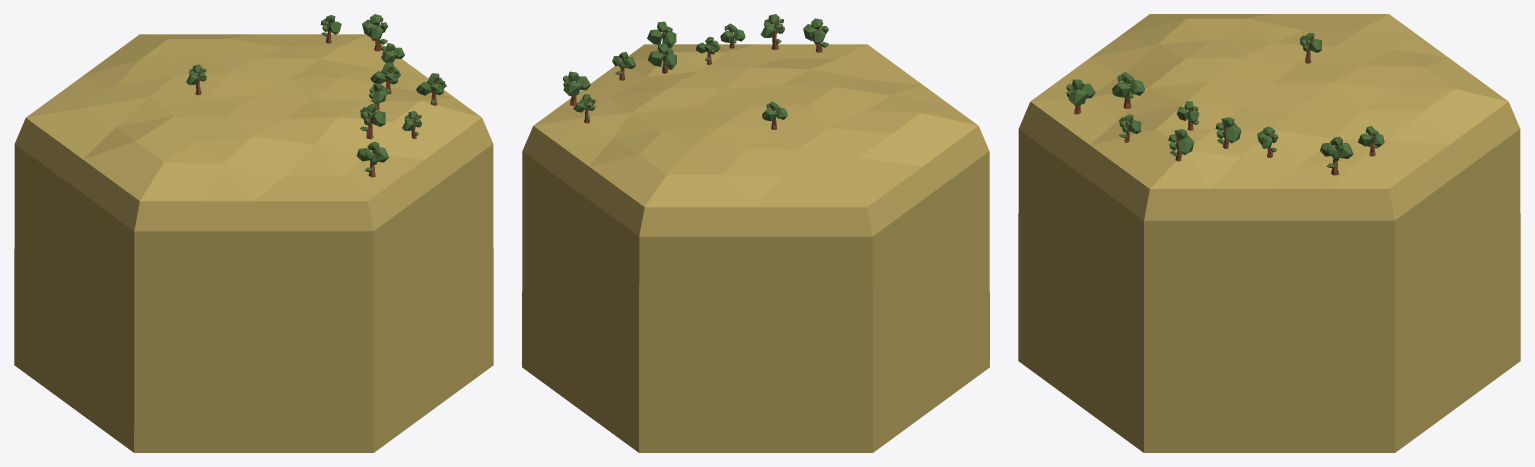
File: mick_strand.fbx
3 renders of one model, left to right at view 1: azimuth 30°, elevation 25°; view 2: azimuth 150°, elevation 25°; view 3: azimuth 270°, elevation 25°, orthographic. The views are drawn at different scales.
Parts seen in each view (by area): view 1: Cylinder, Cylinder.027, Cylinder.007, Cylinder.008, Cylinder.016, Cylinder.001; view 2: Cylinder, Cylinder.001, Cylinder.007, Cylinder.027, Cylinder.008, Cylinder.016; view 3: Cylinder, Cylinder.008, Cylinder.007, Cylinder.027, Cylinder.016, Cylinder.001.
Boxes of the visible parts, left/top/right/bottom form: Cylinder: left=14, top=34, right=493, bottom=452; Cylinder.027: left=356, top=141, right=388, bottom=177; Cylinder.007: left=362, top=14, right=387, bottom=51; Cylinder.008: left=360, top=104, right=385, bottom=139; Cylinder.016: left=416, top=73, right=446, bottom=105; Cylinder.001: left=370, top=62, right=400, bottom=94; Cylinder: left=522, top=44, right=989, bottom=452; Cylinder.001: left=648, top=43, right=676, bottom=73; Cylinder.007: left=563, top=71, right=590, bottom=105; Cylinder.027: left=803, top=18, right=828, bottom=52; Cylinder.008: left=760, top=14, right=784, bottom=49; Cylinder.016: left=647, top=21, right=676, bottom=48; Cylinder: left=1018, top=14, right=1520, bottom=452; Cylinder.008: left=1112, top=72, right=1144, bottom=108; Cylinder.007: left=1320, top=136, right=1353, bottom=175; Cylinder.027: left=1066, top=79, right=1095, bottom=114; Cylinder.016: left=1168, top=129, right=1194, bottom=161; Cylinder.001: left=1215, top=117, right=1241, bottom=148.
Bounding box in the file's own units: 173 × 137 × 200.
